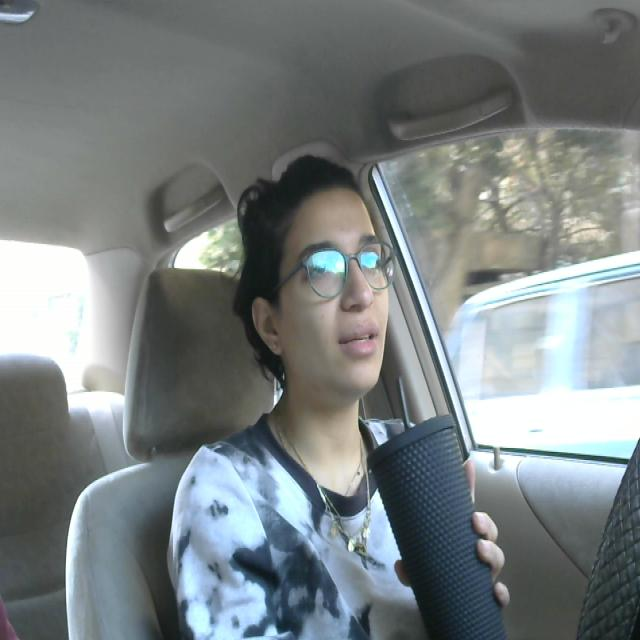drinking: (368, 328, 555, 640)
